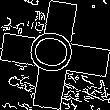O_E: (26, 30, 84, 80)
